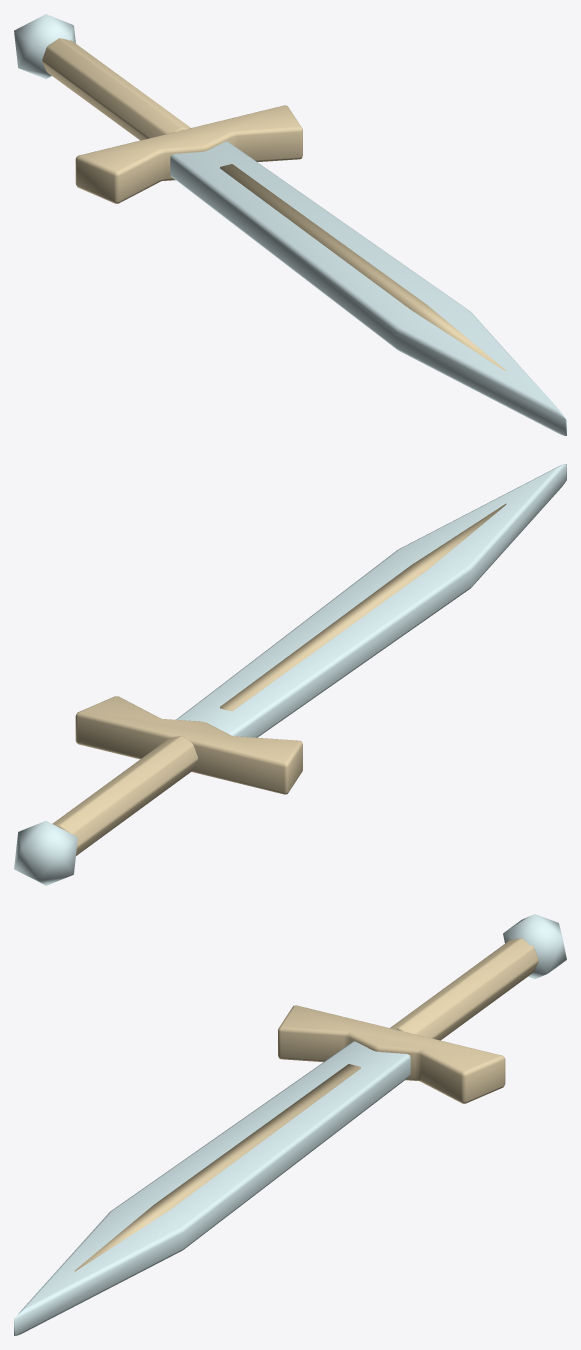
Rendered from giftborne-collectible-light-sword-v1.glb.
3 views of the same model, one above another, from view 1: azimuth 30°, elevation 25°; view 2: azimuth 150°, elevation 25°; view 3: azimuth 330°, elevation 25° (orthographic).
Parts seen in each view (by area): view 1: GiftborneCollectibleLightSword; view 2: GiftborneCollectibleLightSword; view 3: GiftborneCollectibleLightSword.
Part boxes in pixels (left/top/right/bottom): GiftborneCollectibleLightSword: left=14, top=14, right=566, bottom=435; GiftborneCollectibleLightSword: left=14, top=464, right=566, bottom=885; GiftborneCollectibleLightSword: left=14, top=914, right=566, bottom=1335.
Size of the model in its own units: 0.238 by 0.07 by 1.04.
